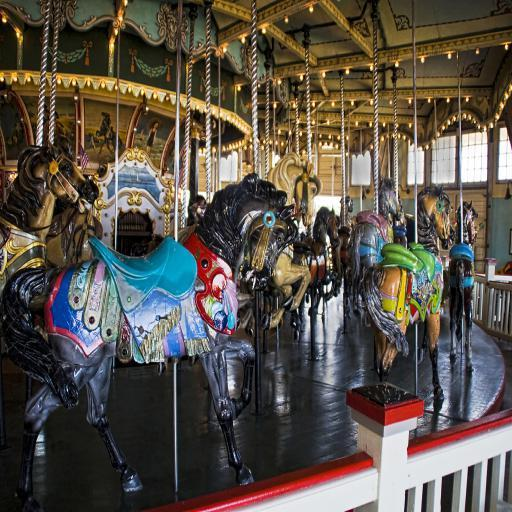horse: (0, 172, 300, 509), (288, 174, 480, 404), (0, 138, 101, 292), (266, 148, 323, 332), (44, 198, 98, 267), (234, 286, 254, 340)
